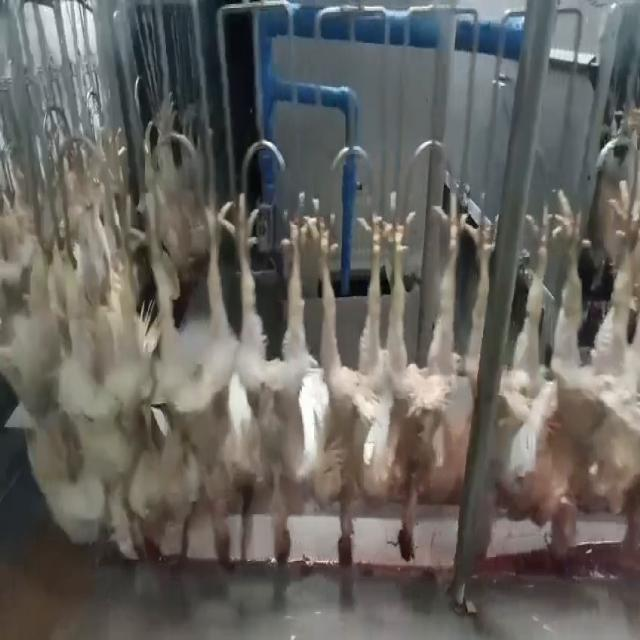chicken: (222, 183, 319, 580), (371, 181, 466, 568), (146, 172, 232, 578), (504, 181, 594, 567), (64, 174, 145, 572), (322, 201, 384, 572), (6, 195, 63, 460), (598, 175, 639, 521), (461, 191, 503, 451)
